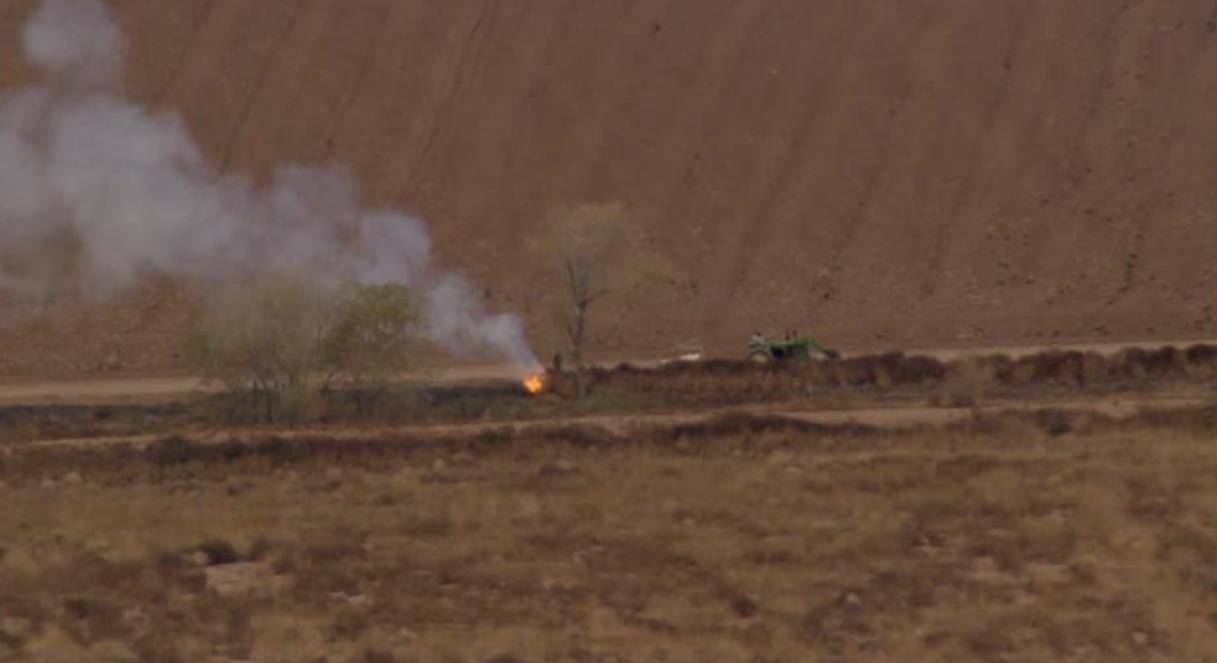fire: (508, 357, 556, 400)
